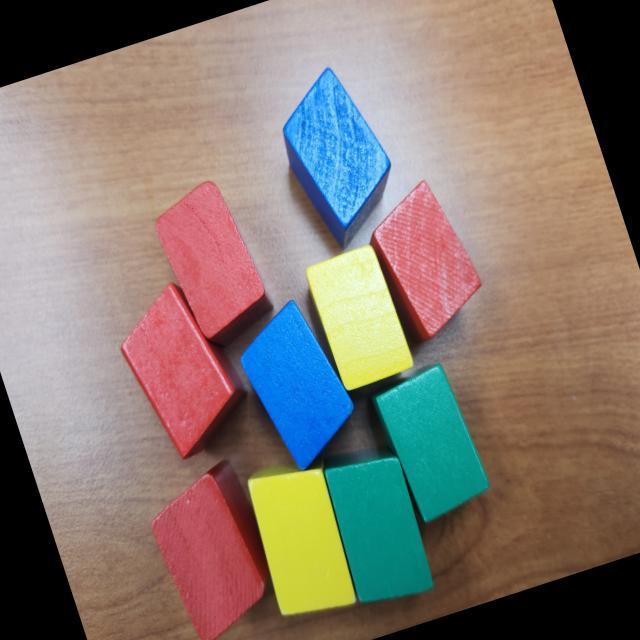blue: (263, 57, 413, 258), (227, 292, 370, 479)
green: (312, 436, 443, 616), (367, 358, 498, 530)
red: (106, 271, 260, 467), (137, 454, 292, 640), (356, 171, 494, 349), (146, 173, 278, 351)
yellow: (237, 449, 368, 626), (301, 242, 419, 392)
